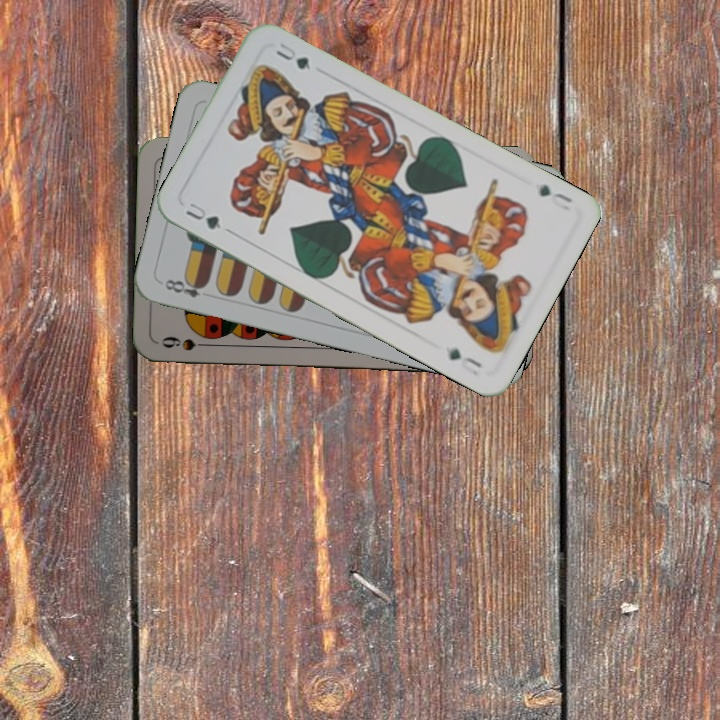E8: (160, 274, 210, 301)
GU: (181, 198, 224, 232), (535, 180, 575, 206)
S9: (158, 332, 216, 353)
